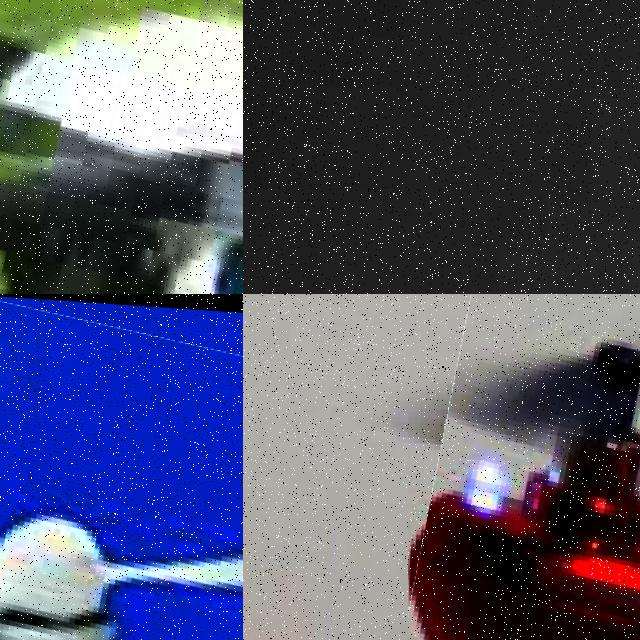drone: (0, 294, 243, 640), (408, 294, 640, 640), (0, 0, 243, 294)
